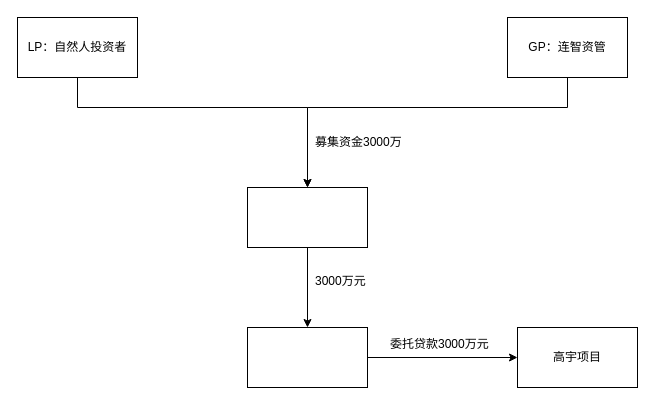
The diagram is 655 pixels wide and 405 high, and some of its shapes have lost their labels. The centre of each missing label's shape, as x and y in pixels:
"大连银行" belongs at (307,357).
"汇诚思源" belongs at (307,217).
